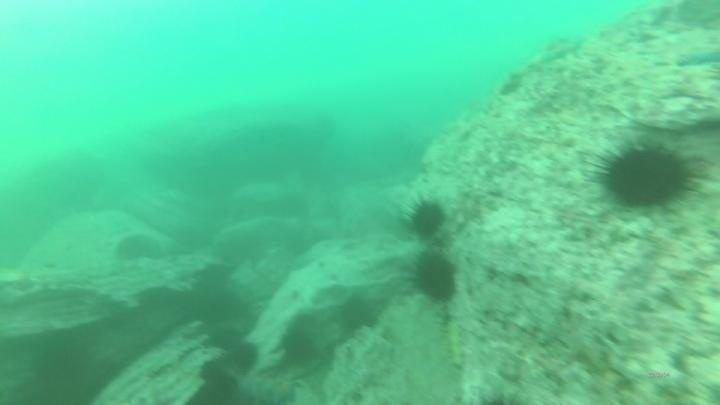echinus: (592, 138, 701, 213), (409, 250, 460, 305), (405, 196, 448, 241), (334, 293, 379, 335), (277, 330, 317, 370), (226, 339, 262, 376), (205, 323, 245, 353), (208, 375, 241, 402), (199, 359, 224, 382)
holothurian: (438, 311, 471, 375)
starfish: (264, 377, 301, 405)
